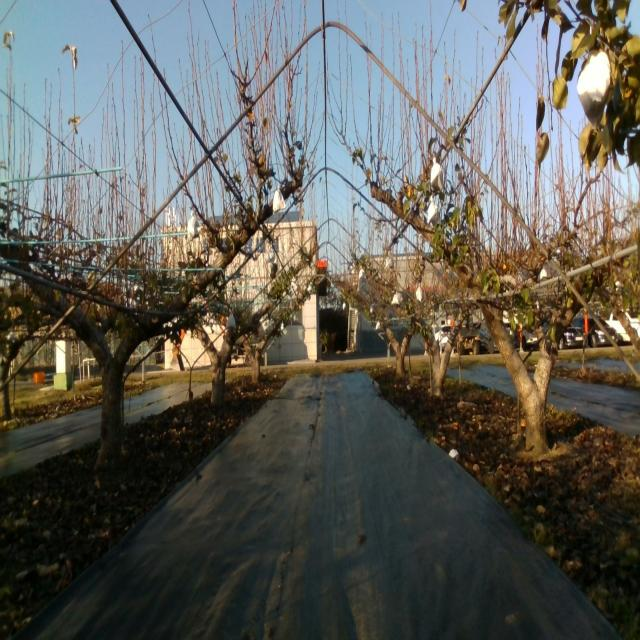pearbags: (576, 47, 612, 124), (430, 158, 444, 192), (187, 214, 202, 243), (272, 187, 286, 213), (427, 195, 439, 224)
